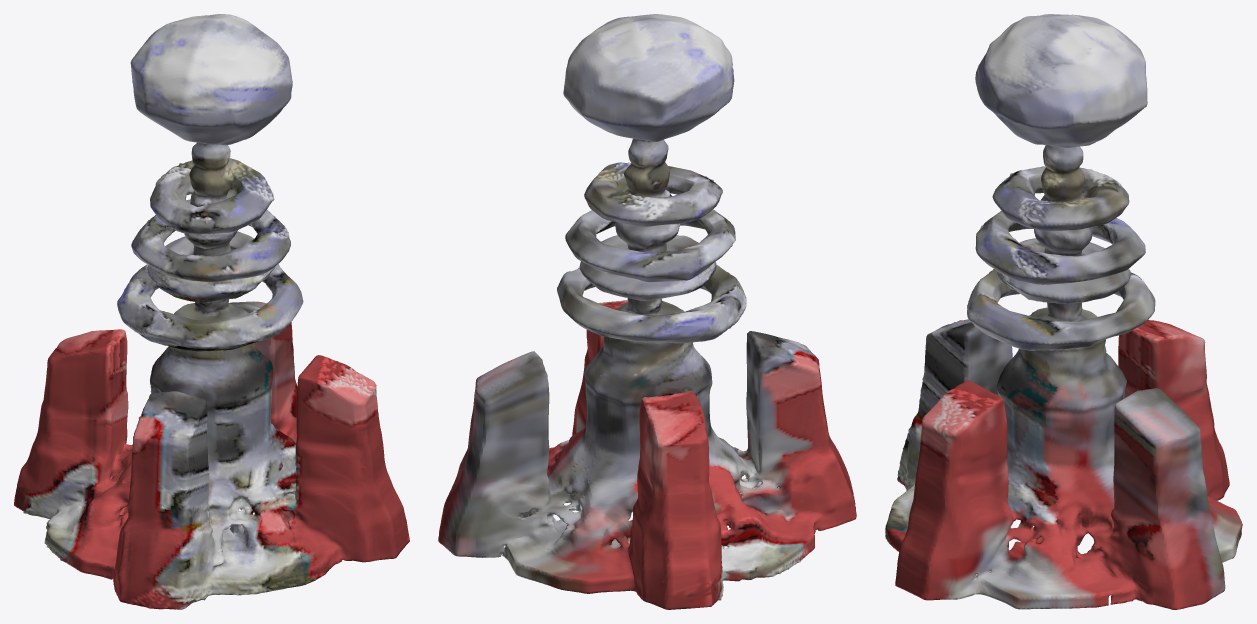
Rendered from soviet_tesla_coil.glb.
The picture shows the model from 3 angles, left to right: view 1: azimuth 30°, elevation 25°; view 2: azimuth 150°, elevation 25°; view 3: azimuth 270°, elevation 25°; orthographic projection. The views are drawn at different scales.
Parts seen in each view (by area): view 1: soviet_tesla_coil; view 2: soviet_tesla_coil; view 3: soviet_tesla_coil.
Boxes of the visible parts, x1=… form: soviet_tesla_coil: x1=14, y1=14, x2=409, y2=609; soviet_tesla_coil: x1=438, y1=14, x2=856, y2=609; soviet_tesla_coil: x1=885, y1=14, x2=1242, y2=609.
Size of the model in its own units: 1.01 by 1.6 by 1.01.
